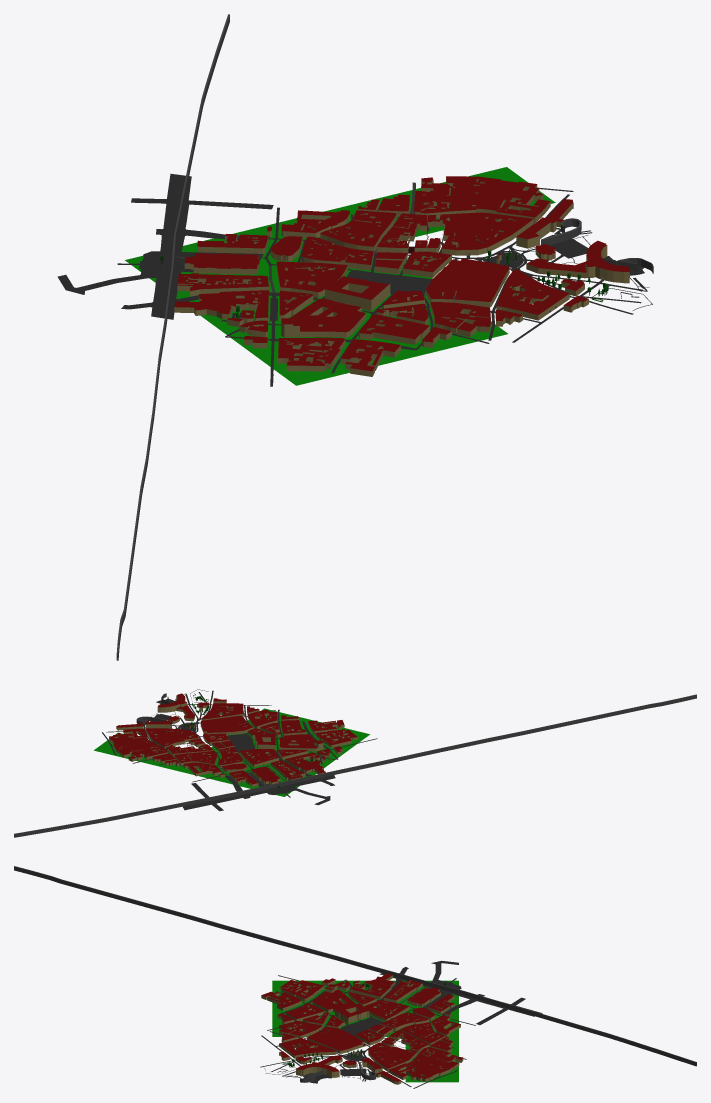
File: Grand_Place.obj
The picture shows the model from 3 angles, top to bottom: view 1: azimuth 30°, elevation 25°; view 2: azimuth 150°, elevation 25°; view 3: azimuth 270°, elevation 25°; orthographic projection. The views are drawn at different scales.
Parts seen in each view (by area): view 1: RoadArea605, SurfaceArea1408, SurfaceArea1409, Building Bourse - Beurs, Building600, Building Hilton Brussels Grand Place, SurfaceArea1411, RoadArea Grand-Place - Grote Markt; view 2: RoadArea605, SurfaceArea1408, Tunnel502, Tunnel524, SurfaceArea1409, SurfaceArea1411, Building600, RoadArea Grand-Place - Grote Markt, Building Bourse - Beurs, Building Hilton Brussels Grand Place, Tunnel514; view 3: RoadArea605, SurfaceArea1408, Tunnel502, Tunnel524, SurfaceArea1411, SurfaceArea1409, Building Hilton Brussels Grand Place, Building Bourse - Beurs, Building600, RoadArea Grand-Place - Grote Markt.
Boxes of the visible parts, left/top/right/bottom form: RoadArea605: left=57, top=173, right=317, bottom=320; SurfaceArea1408: left=176, top=256, right=507, bottom=385; SurfaceArea1409: left=125, top=208, right=351, bottom=294; Building Bourse - Beurs: left=190, top=253, right=259, bottom=274; Building600: left=414, top=176, right=480, bottom=217; Building Hilton Brussels Grand Place: left=585, top=240, right=629, bottom=283; SurfaceArea1411: left=337, top=167, right=555, bottom=238; RoadArea Grand-Place - Grote Markt: left=347, top=269, right=431, bottom=295; RoadArea605: left=183, top=752, right=335, bottom=811; SurfaceArea1408: left=211, top=708, right=369, bottom=777; Tunnel502: left=107, top=788, right=254, bottom=821; Tunnel524: left=521, top=704, right=649, bottom=735; SurfaceArea1409: left=179, top=757, right=299, bottom=796; SurfaceArea1411: left=94, top=732, right=183, bottom=771; Building600: left=116, top=741, right=162, bottom=758; RoadArea Grand-Place - Grote Markt: left=227, top=733, right=255, bottom=752; Building Bourse - Beurs: left=251, top=766, right=280, bottom=784; Building Hilton Brussels Grand Place: left=157, top=693, right=187, bottom=712; Tunnel514: left=381, top=748, right=440, bottom=764; RoadArea605: left=376, top=960, right=542, bottom=1025; SurfaceArea1408: left=272, top=980, right=405, bottom=1036; Tunnel502: left=464, top=991, right=609, bottom=1037; Tunnel524: left=61, top=879, right=192, bottom=920; SurfaceArea1411: left=405, top=1037, right=458, bottom=1082; SurfaceArea1409: left=405, top=980, right=458, bottom=1036; Building Hilton Brussels Grand Place: left=296, top=1062, right=339, bottom=1077; Building Bourse - Beurs: left=407, top=988, right=440, bottom=1006; Building600: left=413, top=1050, right=459, bottom=1072; RoadArea Grand-Place - Grote Markt: left=340, top=1016, right=383, bottom=1035.
Size of the model in its own units: 1164 by 17.5 by 1535.
